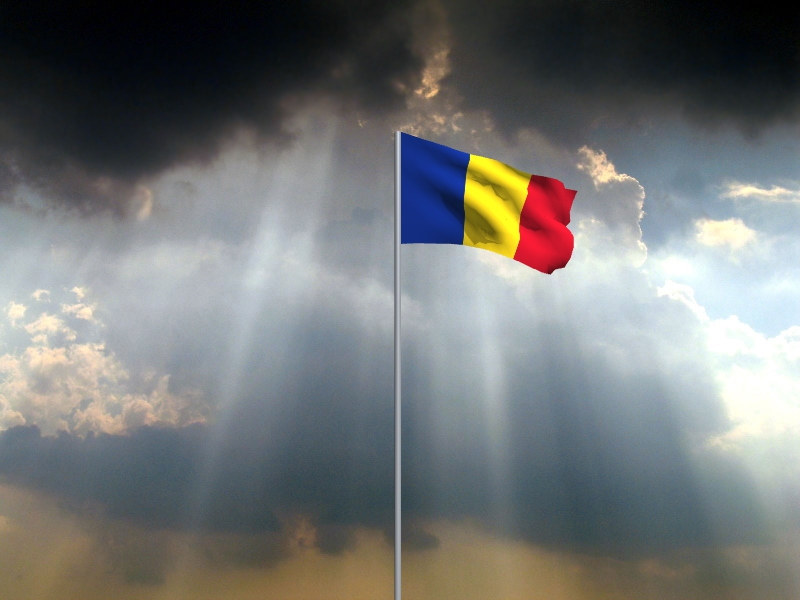ro: (401, 133, 579, 277)
